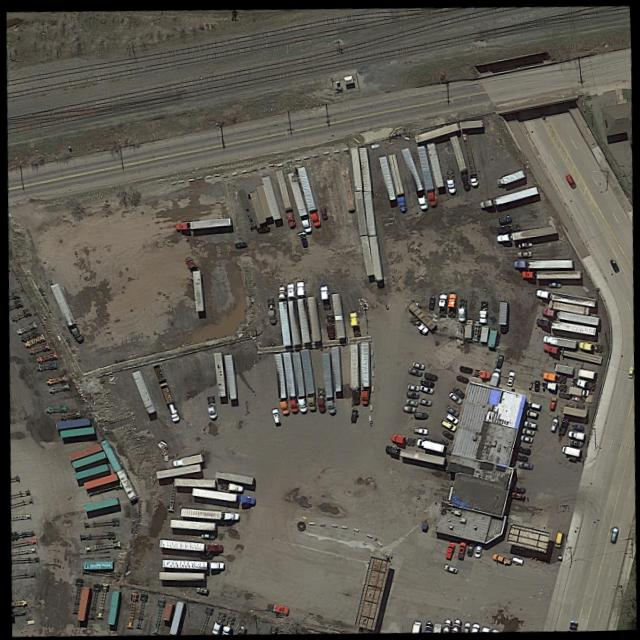large-vehicle: (48, 280, 83, 341), (398, 145, 426, 209), (285, 170, 311, 231), (151, 362, 178, 420), (295, 164, 320, 225), (478, 184, 537, 206), (447, 132, 469, 190), (416, 143, 436, 205), (273, 167, 294, 226), (384, 443, 443, 463), (542, 342, 601, 362), (534, 287, 596, 306), (190, 486, 254, 504), (183, 253, 203, 310), (386, 152, 405, 210), (130, 368, 155, 412), (534, 316, 595, 334), (540, 306, 598, 324), (495, 224, 555, 241), (412, 120, 458, 142), (458, 132, 477, 184), (272, 351, 288, 412), (299, 347, 314, 409), (294, 280, 309, 341), (281, 350, 296, 411), (260, 174, 280, 218), (285, 281, 299, 343), (291, 351, 305, 410), (158, 538, 221, 551), (425, 141, 443, 186), (320, 351, 333, 413), (276, 284, 289, 345), (179, 506, 239, 519), (377, 154, 394, 199), (115, 467, 136, 501), (99, 437, 120, 470), (329, 291, 344, 337), (546, 298, 589, 314), (174, 216, 231, 228), (154, 462, 199, 477), (367, 234, 382, 278), (222, 352, 236, 398), (160, 558, 224, 568), (72, 461, 107, 479), (352, 190, 366, 234), (358, 234, 373, 275), (66, 442, 100, 460), (70, 449, 104, 467), (213, 468, 252, 483), (211, 350, 224, 395), (306, 294, 319, 339), (362, 189, 375, 234), (359, 340, 368, 404), (357, 146, 370, 189), (349, 342, 358, 404), (168, 517, 214, 529), (82, 472, 116, 488), (167, 600, 183, 633), (248, 190, 264, 223), (349, 146, 361, 190), (82, 495, 117, 510), (255, 184, 271, 216), (494, 168, 524, 185), (329, 345, 340, 390), (520, 269, 580, 277), (512, 258, 571, 266), (541, 334, 576, 347), (414, 436, 444, 451), (170, 451, 202, 465), (75, 585, 88, 619), (157, 570, 204, 579), (54, 416, 89, 428), (172, 477, 215, 486), (58, 425, 93, 436), (106, 589, 117, 623), (498, 300, 507, 330), (81, 559, 111, 568), (457, 118, 483, 128), (567, 384, 588, 396), (161, 601, 171, 619), (462, 318, 472, 336)
small-vehicle: (556, 413, 570, 434), (490, 551, 511, 565), (438, 417, 456, 431), (487, 366, 500, 385), (560, 443, 579, 456), (446, 390, 462, 404), (443, 540, 455, 558), (450, 384, 465, 398), (455, 539, 466, 558), (565, 428, 584, 439), (443, 411, 458, 423), (443, 404, 459, 415), (441, 562, 457, 573), (609, 525, 619, 542), (515, 460, 533, 469), (553, 530, 563, 546), (418, 377, 434, 387), (417, 383, 433, 393), (440, 428, 453, 440), (449, 617, 460, 631), (270, 406, 279, 423), (422, 370, 437, 380), (454, 373, 469, 383), (548, 415, 558, 430), (516, 444, 531, 454), (505, 369, 514, 385), (472, 541, 481, 557), (410, 618, 421, 631), (608, 258, 618, 272), (564, 173, 574, 187), (457, 364, 472, 373), (297, 231, 306, 246), (406, 366, 421, 375), (412, 425, 427, 434), (568, 437, 583, 446), (464, 541, 473, 556), (255, 223, 268, 233), (497, 213, 511, 222), (508, 489, 522, 498), (410, 360, 424, 369), (547, 395, 556, 409), (526, 399, 540, 408), (522, 419, 536, 428), (520, 426, 534, 435), (422, 619, 432, 631), (570, 421, 583, 430), (524, 408, 537, 417), (518, 433, 531, 442), (403, 397, 417, 405), (405, 382, 419, 390), (468, 621, 479, 631), (512, 483, 524, 492), (404, 390, 419, 397), (427, 294, 434, 309), (348, 408, 356, 421), (431, 621, 441, 631), (461, 620, 470, 631), (417, 397, 431, 404), (494, 354, 502, 366), (233, 240, 246, 247), (402, 404, 415, 411), (319, 206, 326, 219), (516, 240, 531, 246), (515, 250, 530, 256), (413, 411, 427, 417), (200, 531, 214, 537), (515, 453, 527, 460), (547, 280, 560, 286), (194, 586, 206, 592), (626, 365, 632, 377), (533, 379, 538, 391), (480, 625, 489, 631)
